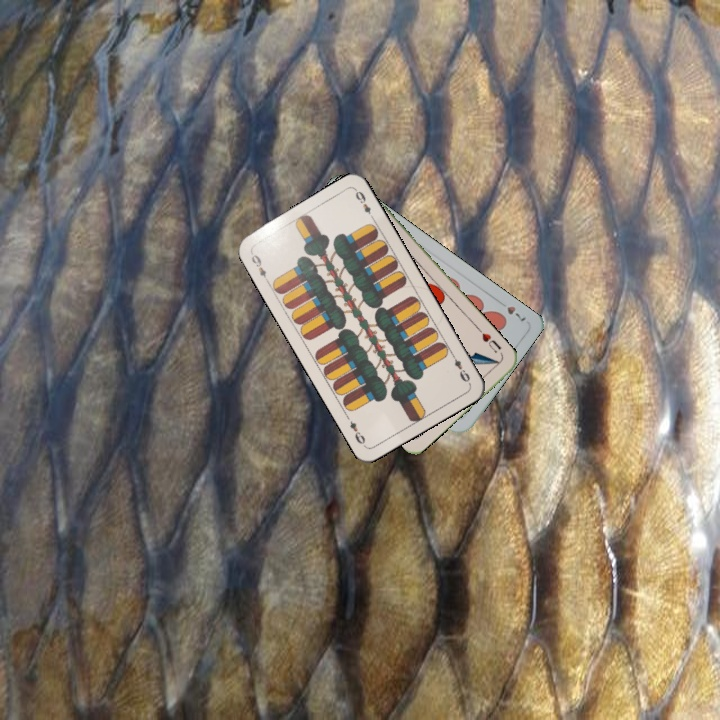E9: (447, 349, 473, 386), (246, 248, 271, 285)
H7: (503, 302, 529, 324)
HU: (478, 329, 504, 355)
